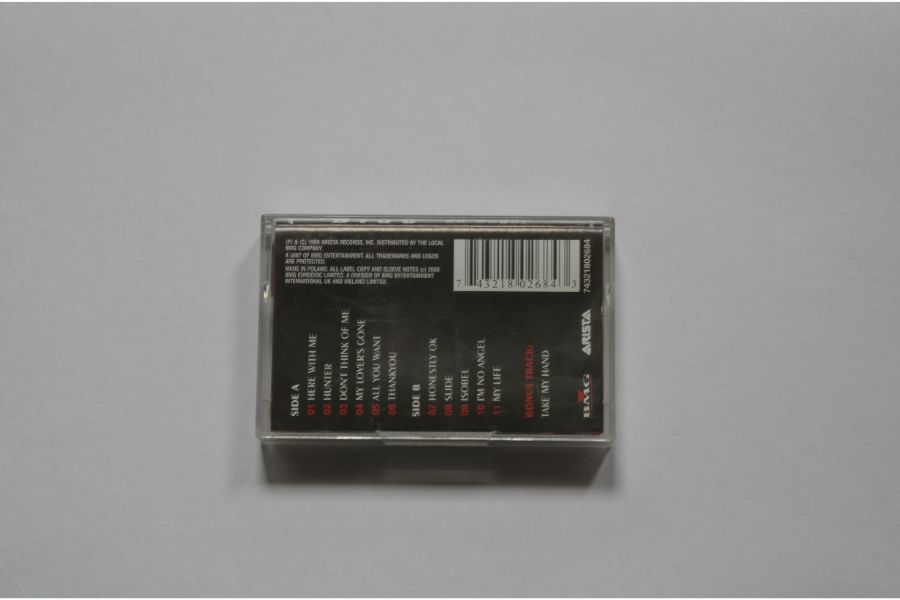album: (257, 211, 618, 445)
